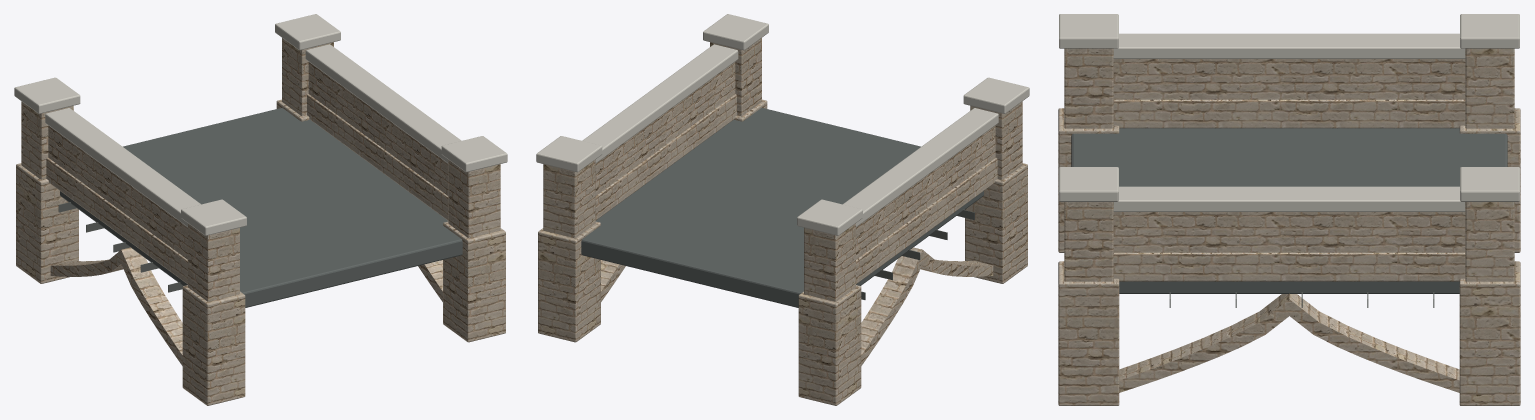
Rendered from elmwood-bridge-739656968.glb.
3 views of the same model, side by side, from view 1: azimuth 30°, elevation 25°; view 2: azimuth 150°, elevation 25°; view 3: azimuth 270°, elevation 25° (orthographic). The views are drawn at different scales.
Visible parts, largest first — view 1: elmwood-bridge-739656968 Polish limestone, elmwood-bridge-739656968 Polish bridge asphalt, elmwood-bridge-739656968 Polish dressed limestone, elmwood-bridge-739656968 Polish carved recess; view 2: elmwood-bridge-739656968 Polish limestone, elmwood-bridge-739656968 Polish bridge asphalt, elmwood-bridge-739656968 Polish dressed limestone, elmwood-bridge-739656968 Polish carved recess; view 3: elmwood-bridge-739656968 Polish limestone, elmwood-bridge-739656968 Polish bridge asphalt, elmwood-bridge-739656968 Polish dressed limestone.
Part boxes in pixels (box(x1,y1,x2,y2)): elmwood-bridge-739656968 Polish limestone: box(16, 38, 505, 405); elmwood-bridge-739656968 Polish bridge asphalt: box(60, 108, 462, 307); elmwood-bridge-739656968 Polish dressed limestone: box(14, 14, 507, 235); elmwood-bridge-739656968 Polish carved recess: box(58, 202, 182, 292); elmwood-bridge-739656968 Polish limestone: box(538, 38, 1027, 405); elmwood-bridge-739656968 Polish bridge asphalt: box(581, 108, 983, 307); elmwood-bridge-739656968 Polish dressed limestone: box(536, 14, 1029, 235); elmwood-bridge-739656968 Polish carved recess: box(861, 209, 974, 299); elmwood-bridge-739656968 Polish limestone: box(1058, 48, 1520, 405); elmwood-bridge-739656968 Polish bridge asphalt: box(1071, 128, 1507, 293); elmwood-bridge-739656968 Polish dressed limestone: box(1059, 14, 1519, 211).
Size of the model in its own units: 5.11 by 2.9 by 5.61.
Materials: 4 (1 with a texture image).
